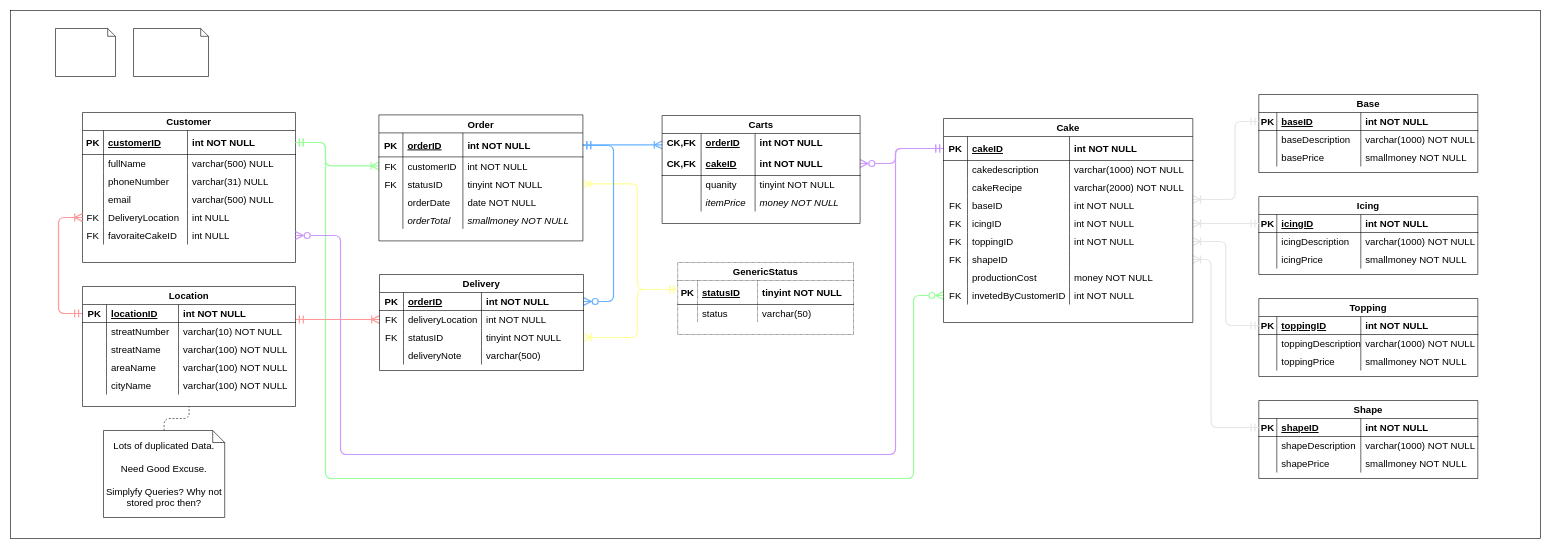
This 1551x549 diagram has some shape labels left out. The shapes that lost their labels are listed below. From the top down, each one's centre as x and y in pixels, then its label:
At point (85, 52): "All Prices are Excl. VAT".
At point (170, 52): "Italics indicate a calculated field".
